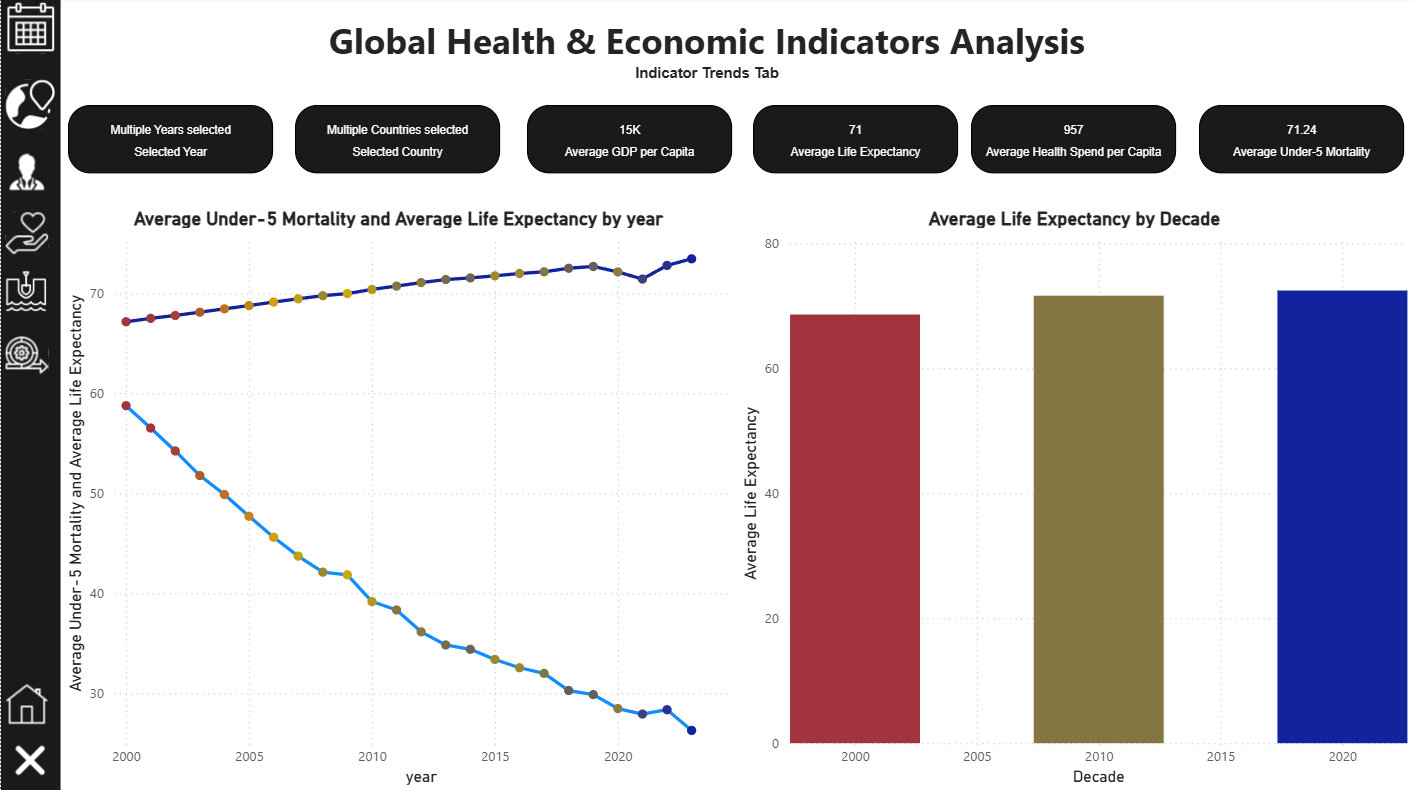

This screenshot's page, from the dashboard's own definition file:
{"tool":"powerbi","page":{"name":"Indicator Trends","canvas":[1280,720],"ordinal":4},"visuals":[{"type":"shape","title":"Side Bar","box":[0,0,54.1,720.1],"z":0},{"type":"card","title":"Average Life Expectancy Card","fields":{"Values":["Measure.Average Life Expectancy"]},"box":[682,98,186,62],"z":1000},{"type":"card","title":"Average GDP per Capita Card","fields":{"Values":["Measure.Average GDP per Capita"]},"box":[477,98,186,62],"z":2000},{"type":"card","title":"Average Health Spend per Capita Card","fields":{"Values":["Measure.Average Health Spend per Capita"]},"box":[880,98,186,62],"z":3000},{"type":"lineChart","fields":{"Category":["dim_year.year"],"Y":["Measure.Average Under-5 Mortality","Measure.Average Life Expectancy"]},"box":[54.7,190.8,612.2,529.2],"z":3500},{"type":"card","title":"Average Under-5 Mortality Card","fields":{"Values":["Measure.Average Under-5 Mortality"]},"box":[1086,98,186,62],"z":4000},{"type":"textbox","title":"Report Name Text Box","box":[154,12,972,76],"z":5000},{"type":"actionButton","title":"Date Filter Button","box":[0,0,54.1,56],"z":6000},{"type":"actionButton","title":"Country Filter Button","box":[0,70,53,55],"z":7000},{"type":"card","title":"Selected Country Card","fields":{"Values":["Measure.Selected Country"]},"box":[267,98,186,62],"z":8000},{"type":"card","title":"Selected Year Card","fields":{"Values":["Measure.Selected Year"]},"box":[61,98,186,62],"z":9000},{"type":"actionButton","title":"Home page Button","box":[0,618.5,52.3,47],"z":10000},{"type":"actionButton","title":"Data & Methodology Tab Button","box":[0,300.5,52.3,47],"z":10500},{"type":"actionButton","title":"Country Deep Dive Tab Button","box":[0,244.2,52.3,45.6],"z":10750},{"type":"actionButton","title":"Economic vs Health Correlation Tab Button","box":[0,190.5,52.3,47],"z":10875},{"type":"actionButton","title":"Executive Summary Tab Button","box":[0,135.5,52.3,47],"z":10937},{"type":"actionButton","title":"Close Button","box":[0,665,53,55],"z":12000},{"type":"columnChart","fields":{"Category":["dim_year.Decade"],"Y":["Measure.Average Life Expectancy"]},"box":[666.9,190.8,613.8,529.2],"z":15000}]}

Visuals, with their boxes in screenshot pixels (x1, y1, x2, y2), scaled from the page's 1280x720 canvas onto the 1412x790 screenshot:
"Side Bar" shape: locate(0, 0, 60, 789)
"Average Life Expectancy Card" card: locate(752, 108, 958, 176)
"Average GDP per Capita Card" card: locate(526, 108, 731, 176)
"Average Health Spend per Capita Card" card: locate(971, 108, 1176, 176)
lineChart - dim_year.year x Measure.Average Under-5 Mortality: locate(60, 209, 736, 789)
"Average Under-5 Mortality Card" card: locate(1198, 108, 1403, 176)
"Report Name Text Box" textbox: locate(170, 13, 1242, 97)
"Date Filter Button" actionButton: locate(0, 0, 60, 61)
"Country Filter Button" actionButton: locate(0, 77, 58, 137)
"Selected Country Card" card: locate(295, 108, 500, 176)
"Selected Year Card" card: locate(67, 108, 272, 176)
"Home page Button" actionButton: locate(0, 679, 58, 730)
"Data & Methodology Tab Button" actionButton: locate(0, 330, 58, 381)
"Country Deep Dive Tab Button" actionButton: locate(0, 268, 58, 318)
"Economic vs Health Correlation Tab Button" actionButton: locate(0, 209, 58, 261)
"Executive Summary Tab Button" actionButton: locate(0, 149, 58, 200)
"Close Button" actionButton: locate(0, 730, 58, 789)
columnChart - dim_year.Decade x Measure.Average Life Expectancy: locate(736, 209, 1411, 789)
